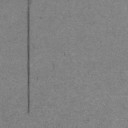surface scratch: (26, 0, 32, 114)
